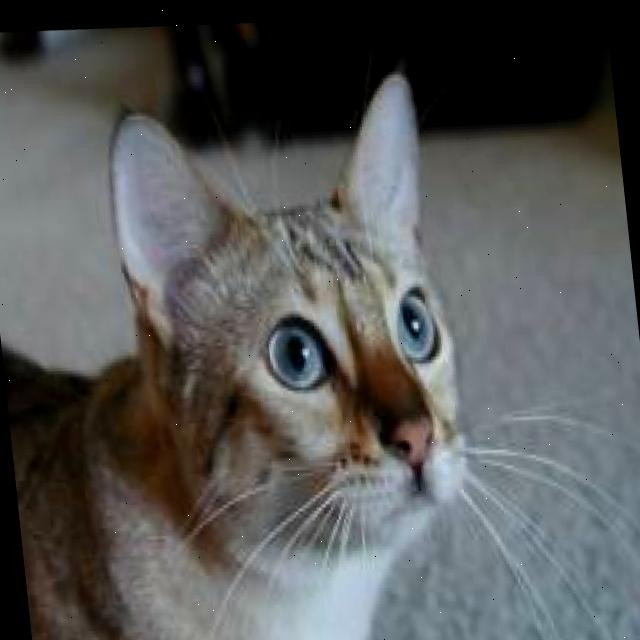Bengal: (0, 23, 511, 640)
